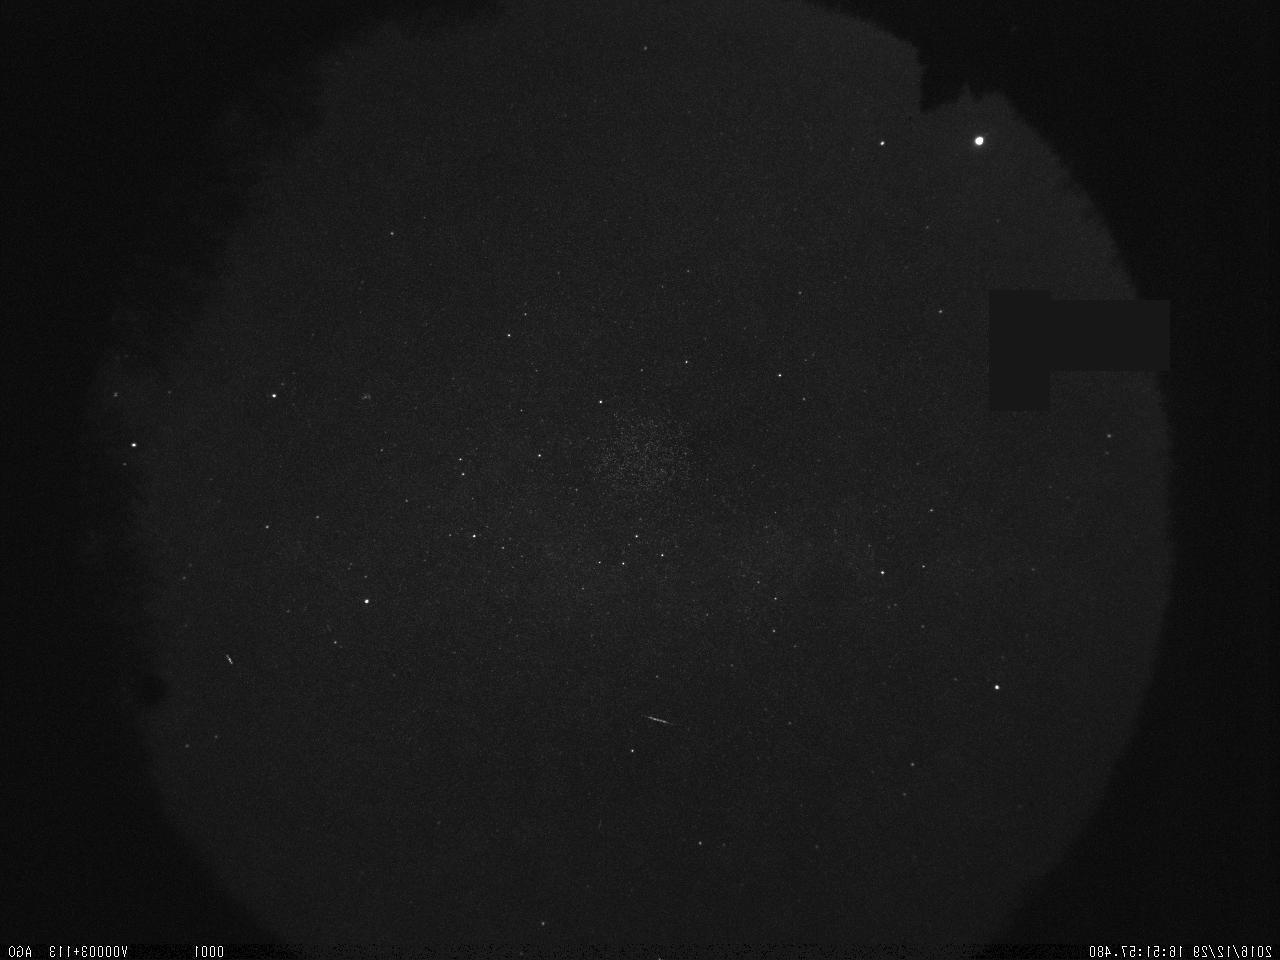meteor: (637, 704, 678, 735)
